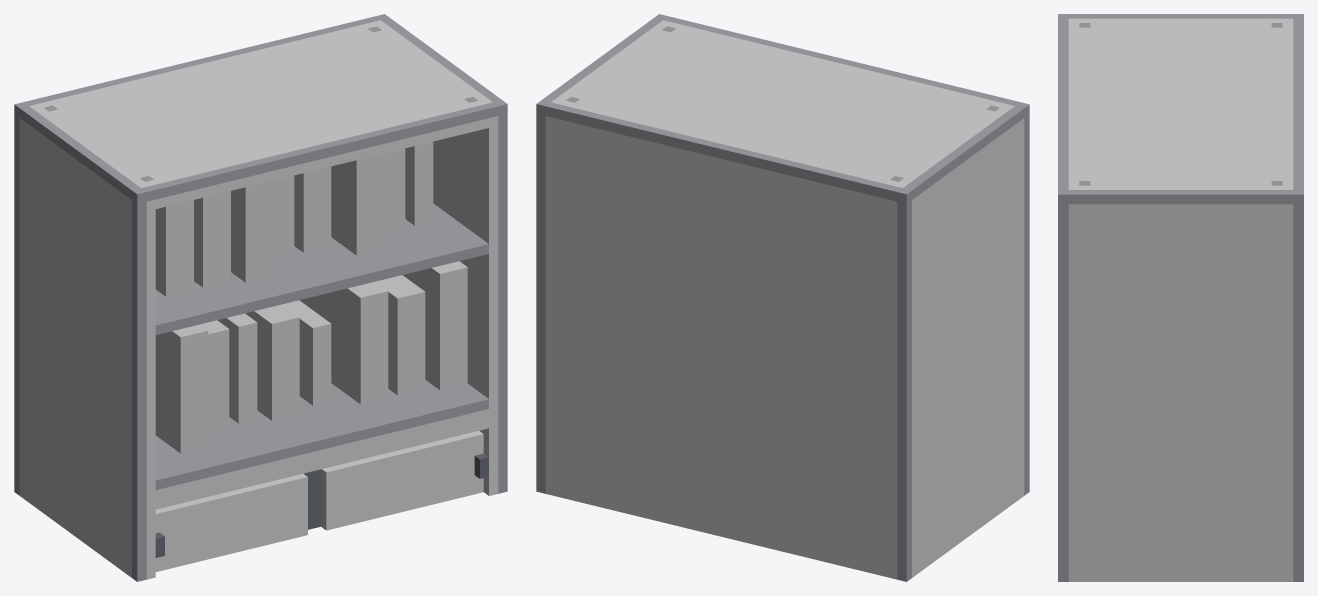
Rendered from MetalBookBench.fbx.
3 views of the same model, side by side, from view 1: azimuth 30°, elevation 25°; view 2: azimuth 150°, elevation 25°; view 3: azimuth 270°, elevation 25° (orthographic).
Visible parts, largest first — view 1: MetalBookBench; view 2: MetalBookBench; view 3: MetalBookBench.
Part boxes in pixels (bbox=[...]): MetalBookBench: bbox=[14, 14, 507, 581]; MetalBookBench: bbox=[536, 14, 1029, 581]; MetalBookBench: bbox=[1058, 14, 1303, 581].
Size of the model in its own units: 250 by 250 by 144.
